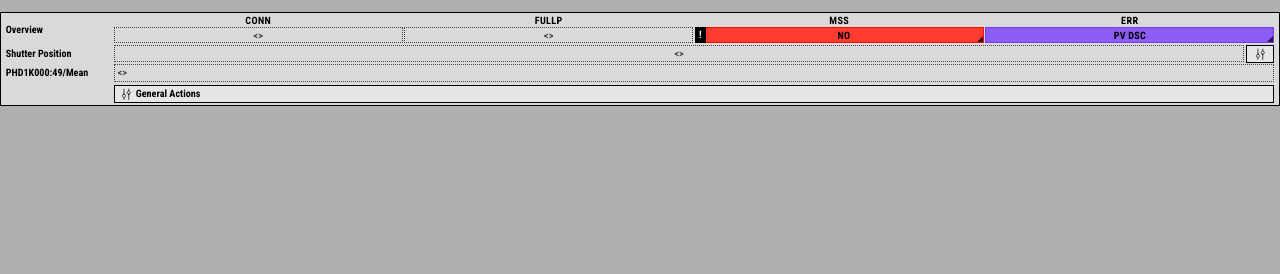
Test: GeneralSection › overrides MSS / module-error item colour with EPICS severity, regardless of the raw value
The width and height of the screenshot is (1280, 274).
Expected: the element showing "PV DSC" is shown, [985,27,1274,43]
Click the button with aria-label "Toggle MSS detail" at (839, 35), box [695,27,984,43]
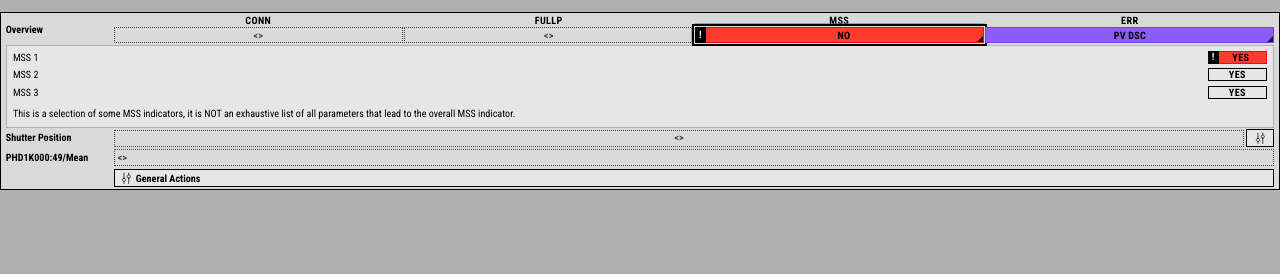
Expected: the text "YES" in the row of "MSS 1" is shown, [1232,52,1250,62]
Click the button with aria-label "Toggle module errors detail" at (1130, 35), box [985,27,1274,43]
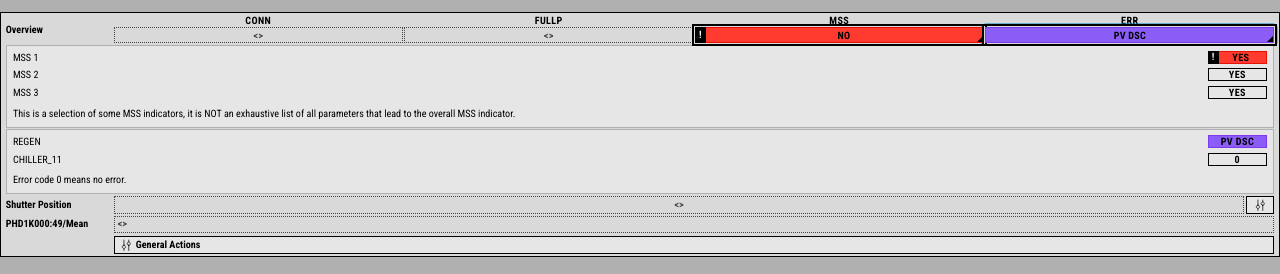
Expected: the list item "REGEN" does not show "0", [7,133,1273,149]
Expected: the list item "REGEN" shows "PV DSC", [1221,136,1254,147]
Expected: the list item "CHILLER_11" shows "0", [1235,154,1240,165]
